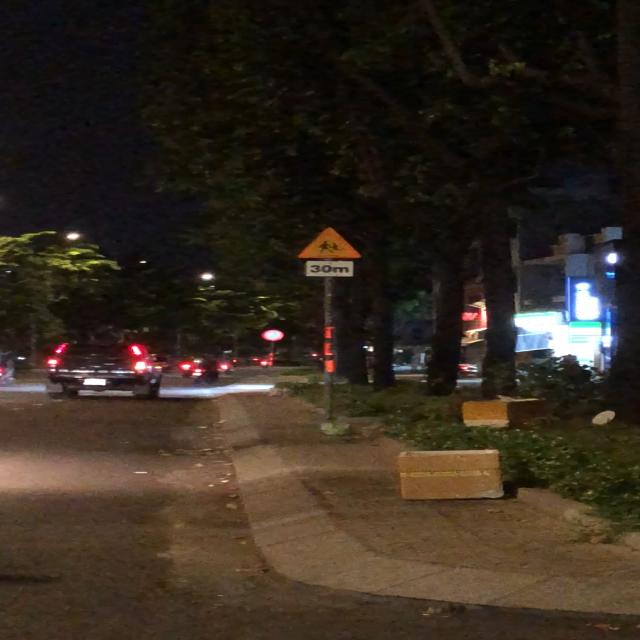Bien bao tre em: (295, 224, 365, 260)
